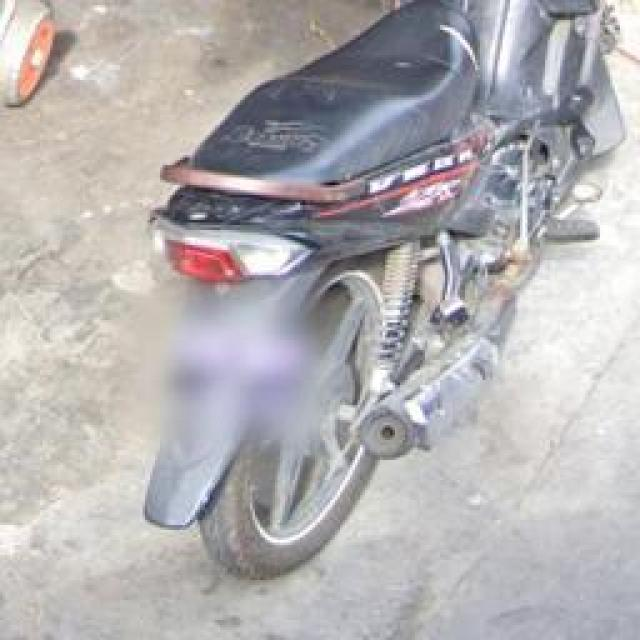Motor: (140, 2, 625, 580)
